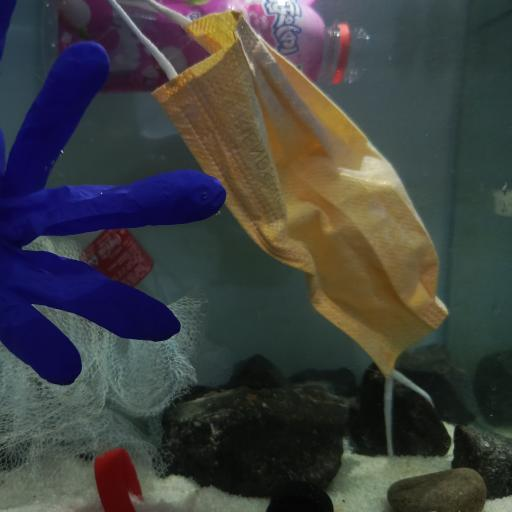bottle_cap: (95, 447, 142, 512), (268, 482, 329, 512)
glove: (0, 0, 230, 384)
mask: (113, 2, 449, 400)
net: (0, 235, 207, 483)
plastic_bottle: (42, 1, 372, 93), (67, 220, 167, 302)
